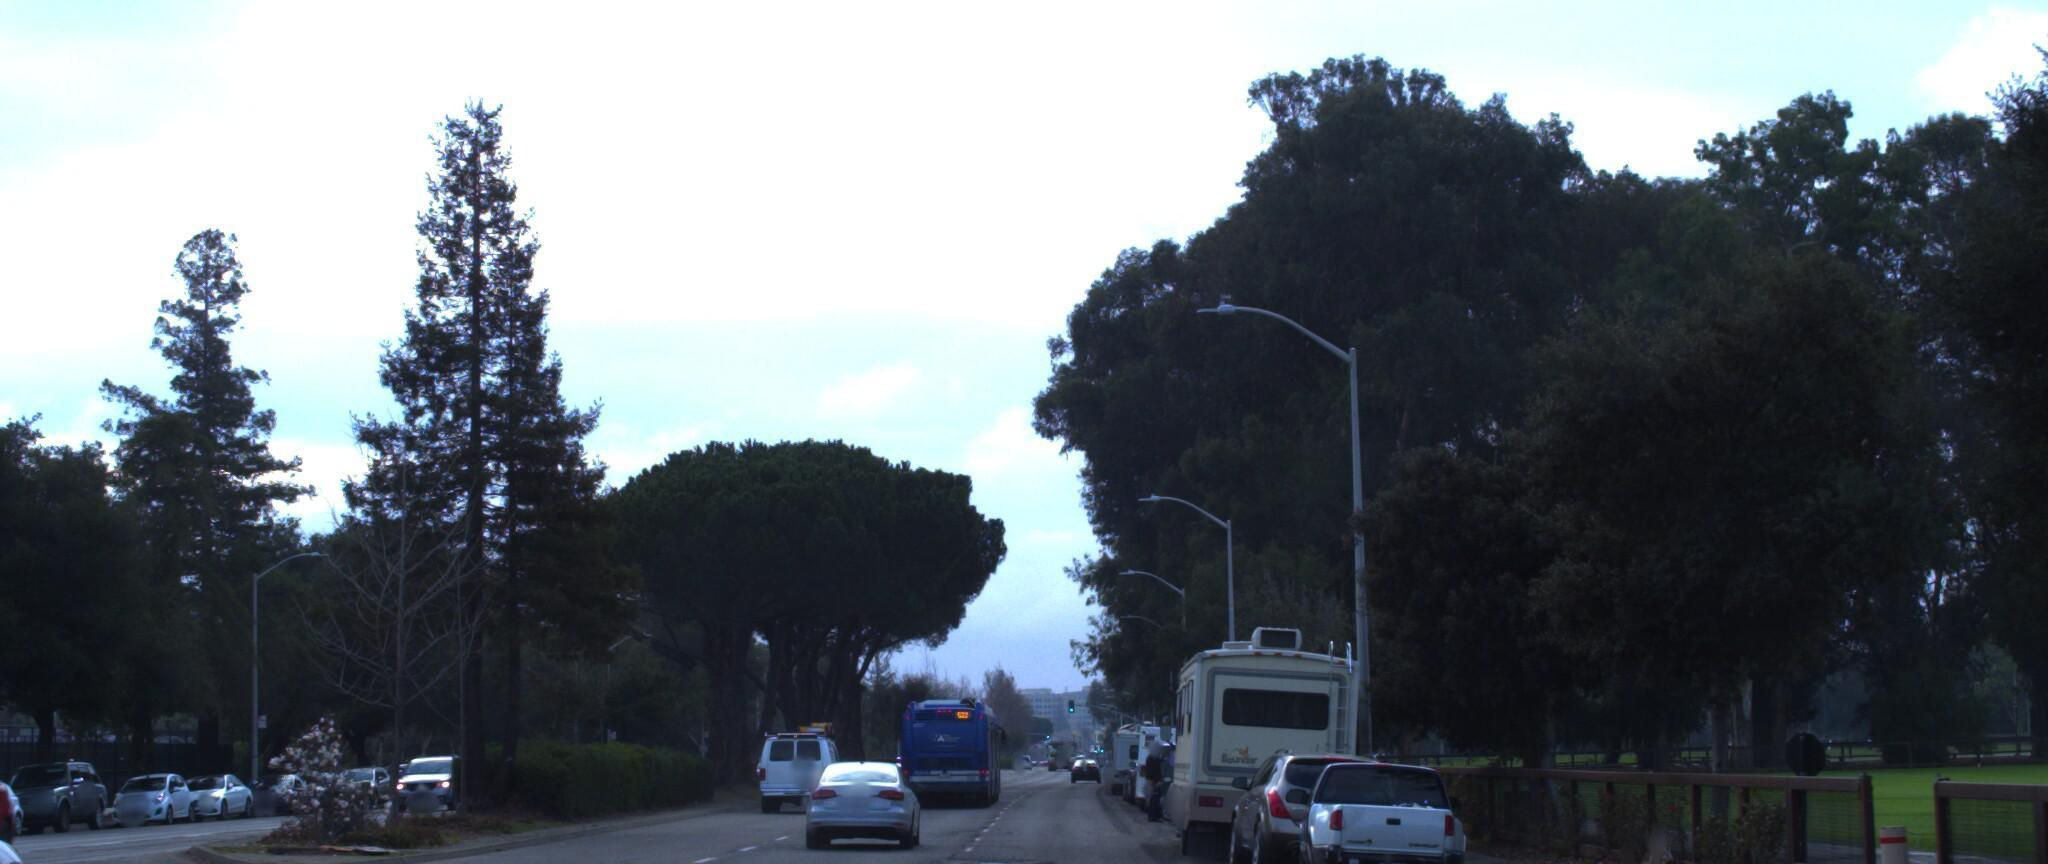car: (1219, 722, 1411, 864), (1280, 732, 1477, 864), (799, 737, 923, 829), (0, 741, 118, 826), (0, 722, 68, 864), (756, 709, 846, 794), (0, 743, 24, 861)
other_vehicle: (1161, 600, 1369, 844)
